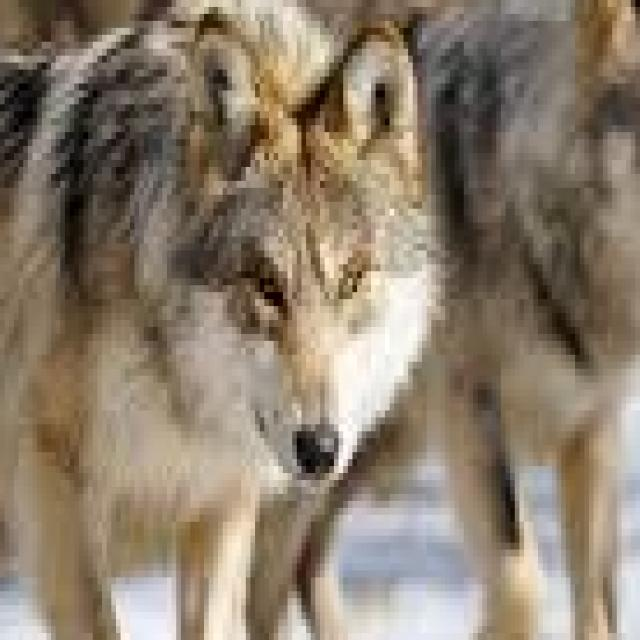wolf: (0, 0, 473, 640), (422, 0, 640, 640)
